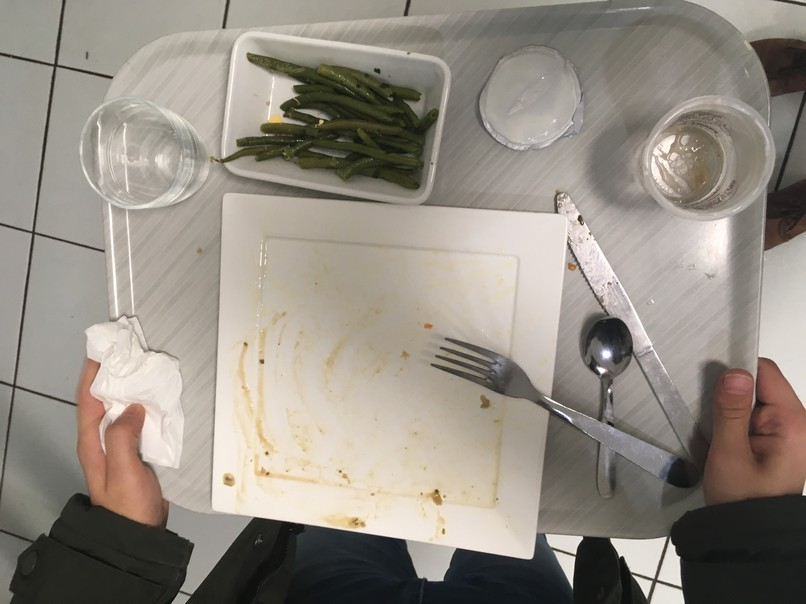cup: (61, 91, 217, 219)
cutlery: (543, 185, 747, 489), (431, 326, 713, 496), (577, 311, 646, 505)
orga: (229, 42, 448, 196)
trash: (83, 308, 190, 480), (461, 34, 602, 163)
